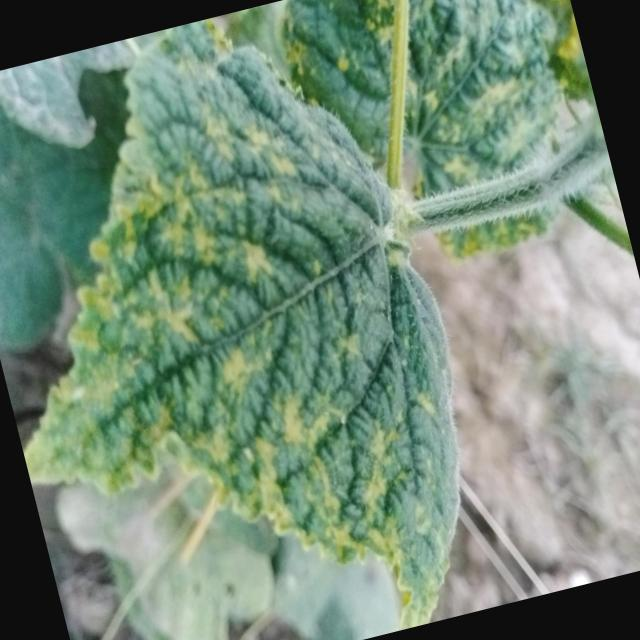cucumber_downy: (0, 58, 496, 608), (300, 0, 622, 272)
